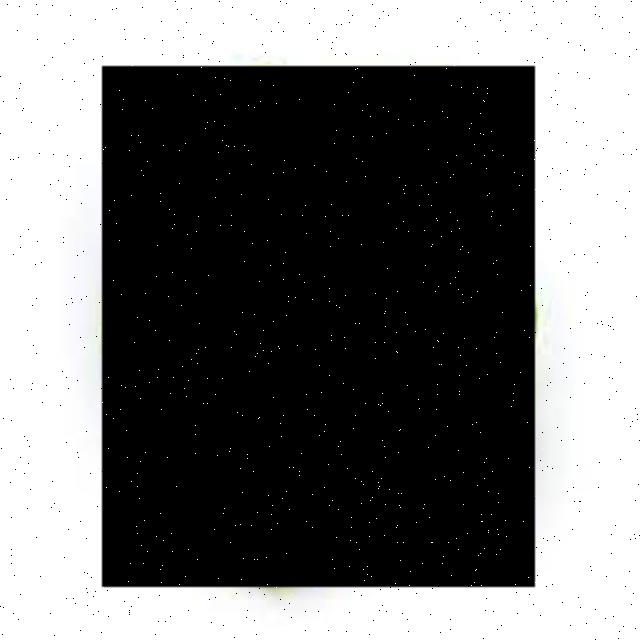Broad_Beans: (102, 66, 535, 587), (118, 72, 369, 340)
